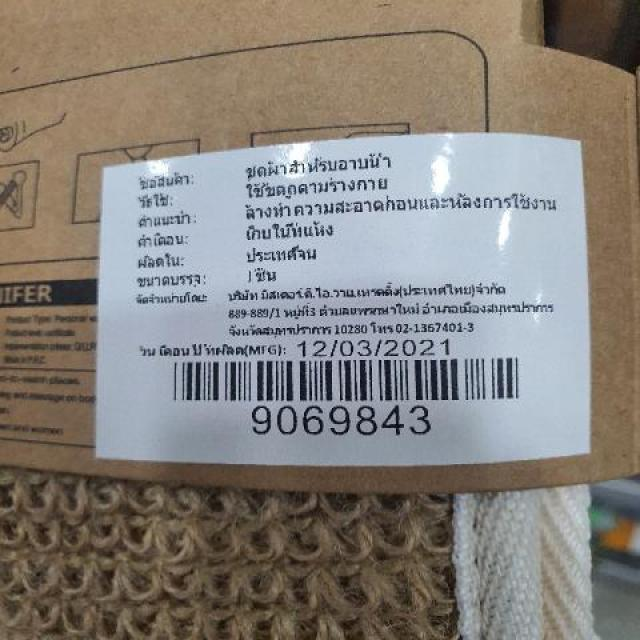Barcode: (161, 354, 531, 446)
